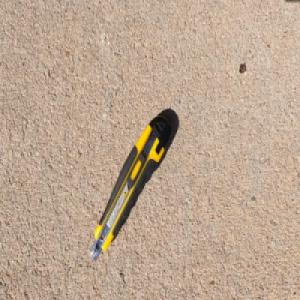Cutter: (88, 114, 172, 263)
